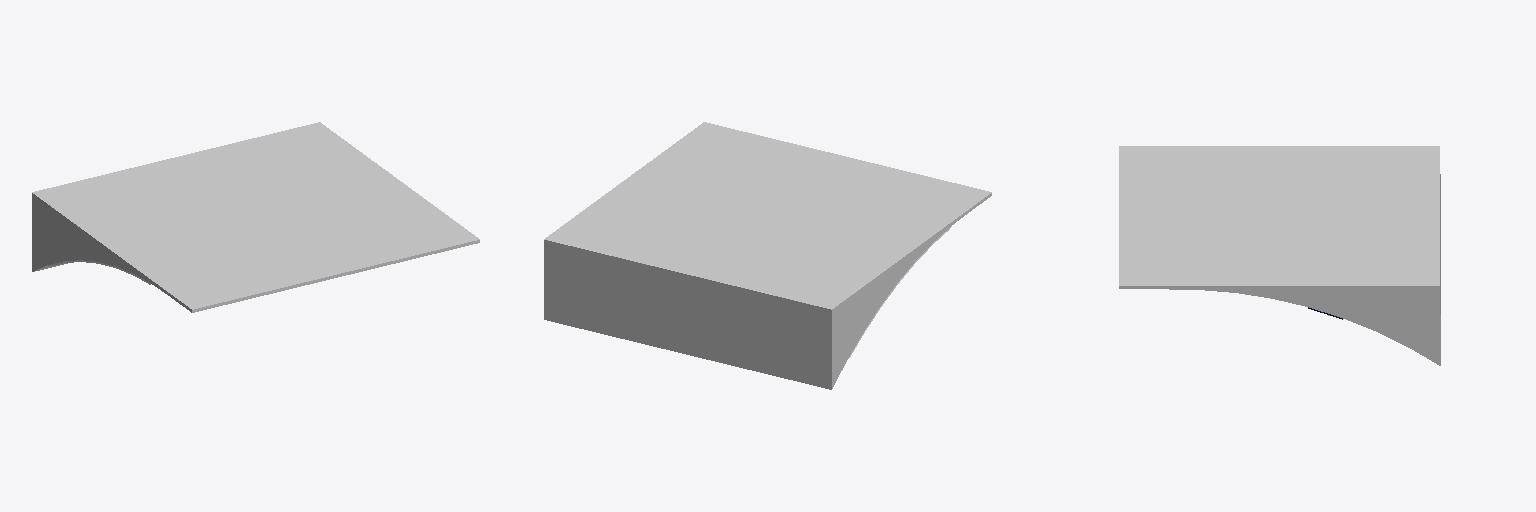
File: orelsan_mur.obj
3 views of the same model, side by side, from view 1: azimuth 30°, elevation 25°; view 2: azimuth 150°, elevation 25°; view 3: azimuth 270°, elevation 25° (orthographic).
Visible parts, largest first — view 1: Mur; view 2: Mur; view 3: Mur.
Part boxes in pixels (bbox=[...]): Mur: bbox=[32, 122, 479, 312]; Mur: bbox=[544, 122, 991, 389]; Mur: bbox=[1119, 146, 1440, 365].
Size of the model in its own units: 500 by 133 by 483.